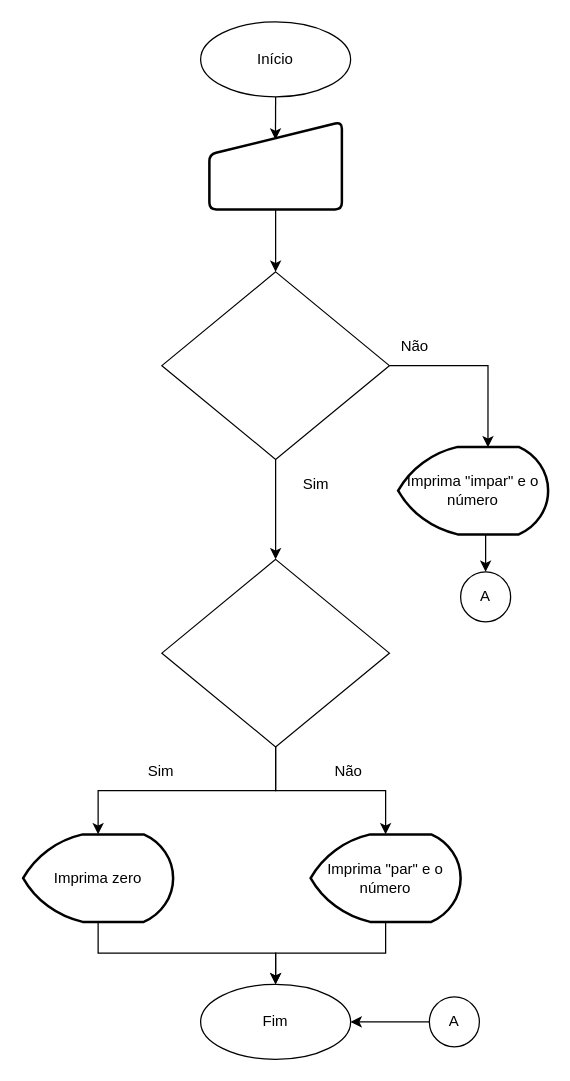
The diagram is 570 pixels wide and 1081 high, and some of its shapes have lost their labels. Each missing label, with the box of its shape:
Número de alunos: (208, 120, 342, 210)
Número é par?: (161, 271, 389, 459)
Número é zero?: (161, 558, 389, 747)
